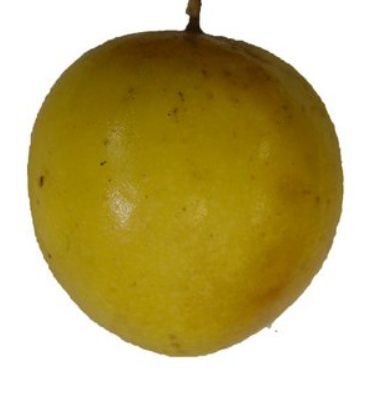maracuya: (16, 11, 348, 395)
